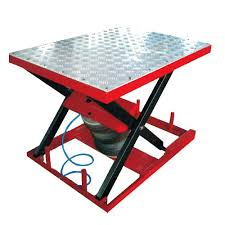Scissor Lift: (8, 25, 213, 215)
